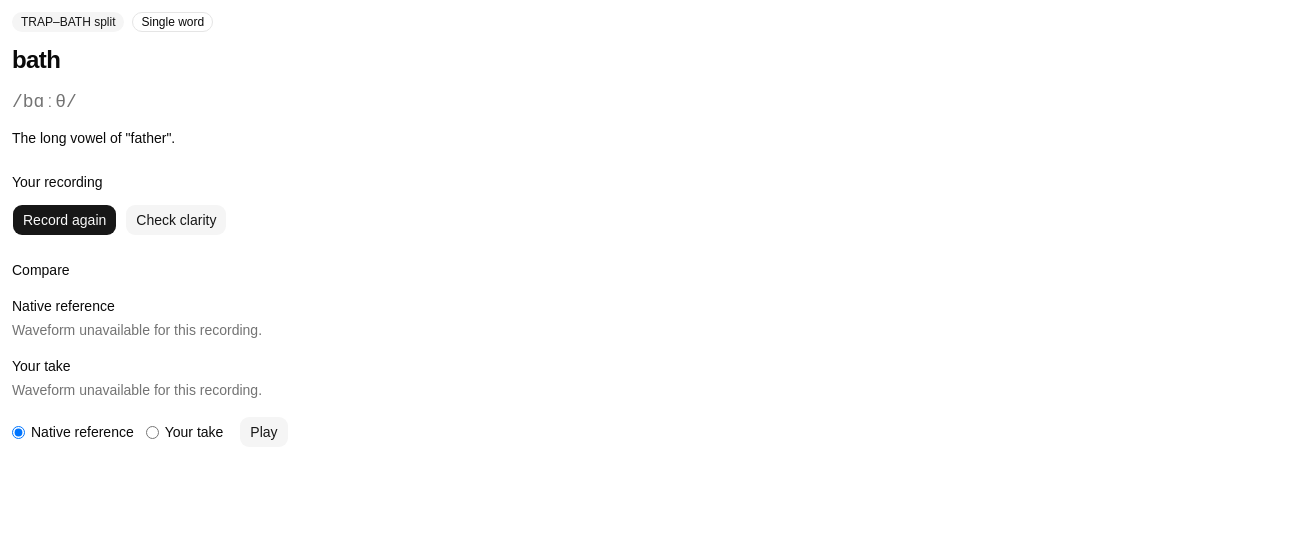
Test: PracticePanel › asks for a new take rather than resubmitting audio the recogniser could not hear
Click the button "Check clarity" at x=176, y=220, box [125,204,227,236]
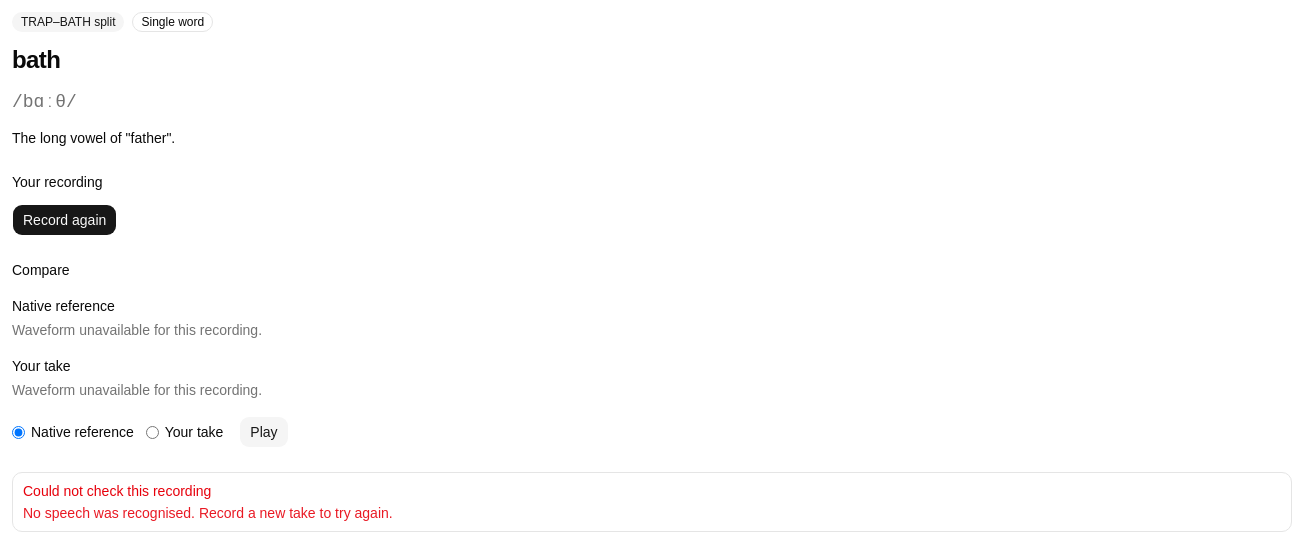
expect the text "No speech was recognised. Record a new take to try again." is shown: met, box [23,505,393,521]
expect the button "Check clarity" is gone: met
